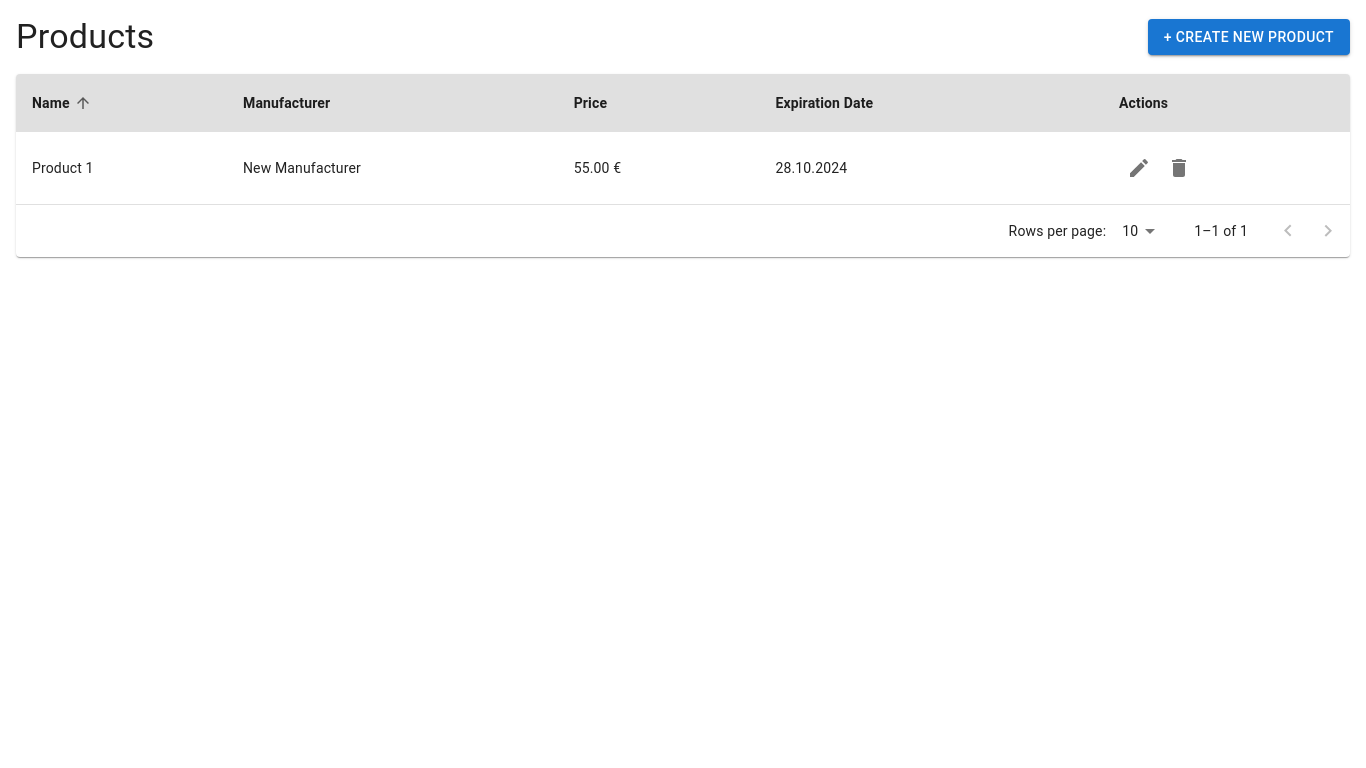
Test: Products Component › opens modal when "Create New Product" button is clicked
Click the button "+ Create New Product" at (1249, 37), box [1148, 19, 1350, 55]
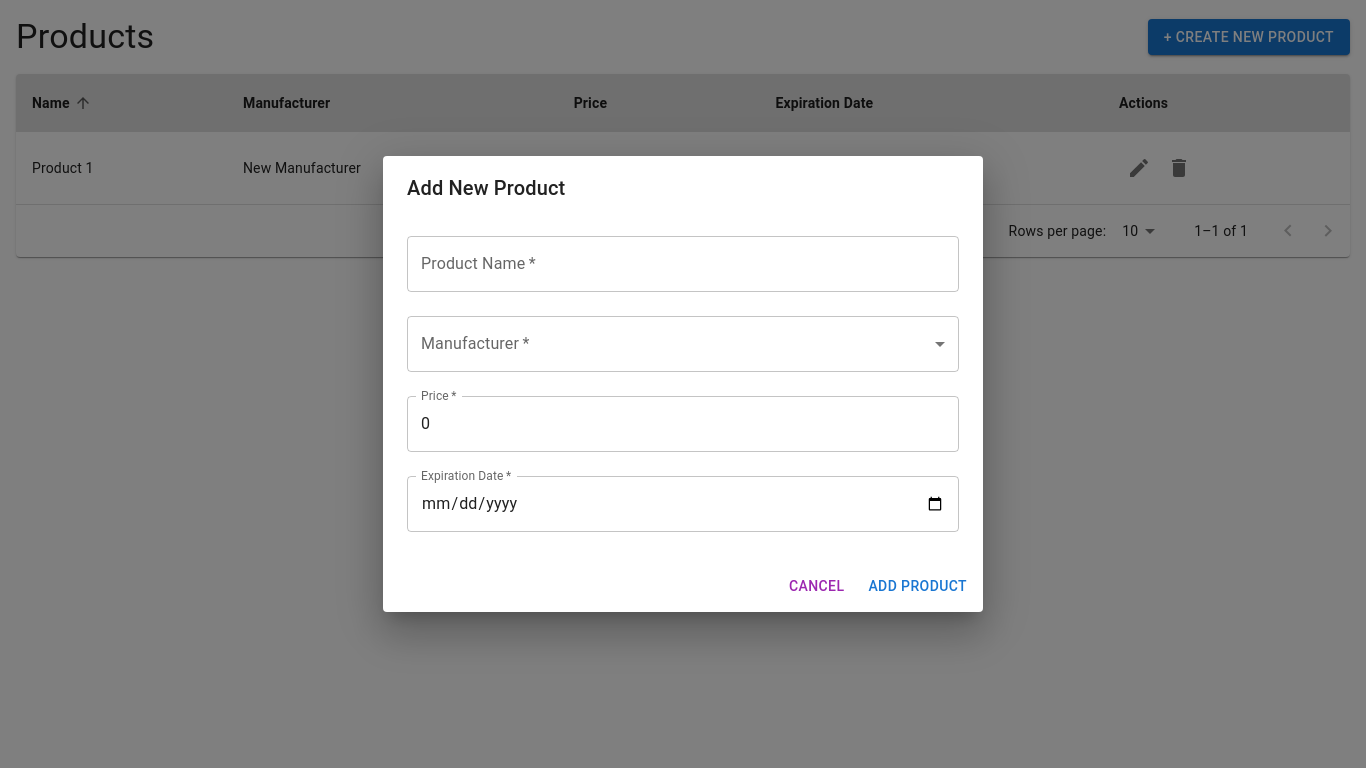
Result: the dialog is shown at [383, 156, 983, 612]
